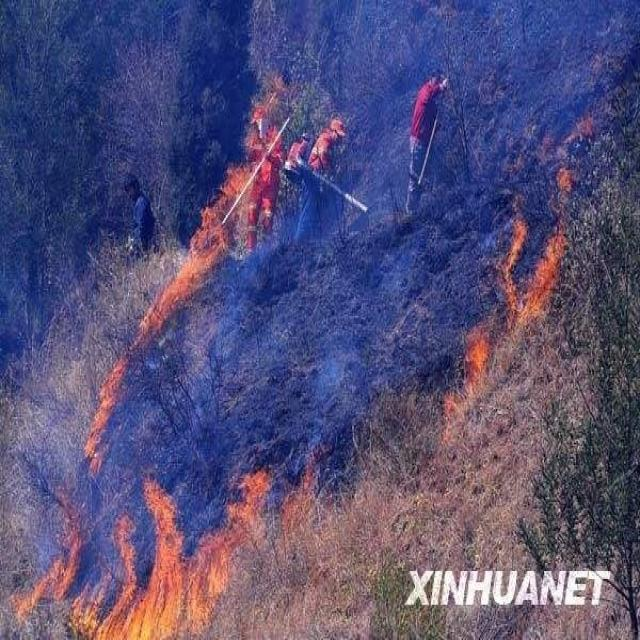Fire: (10, 159, 272, 640), (442, 165, 572, 417)
